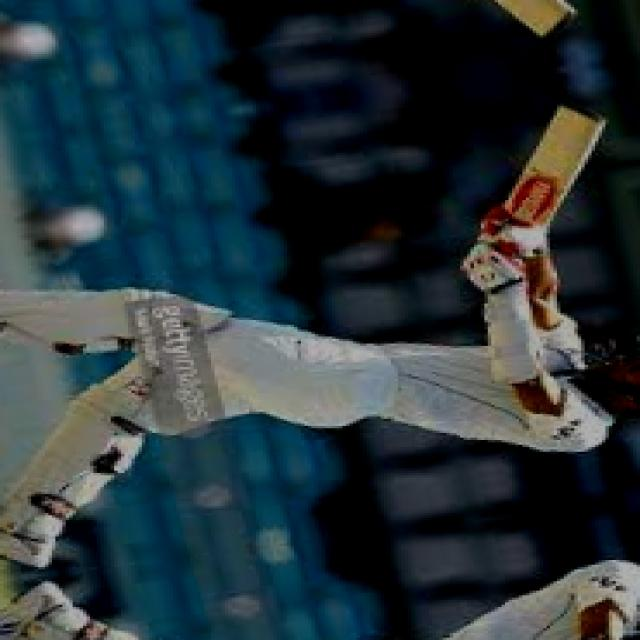toe: (546, 94, 608, 126)
